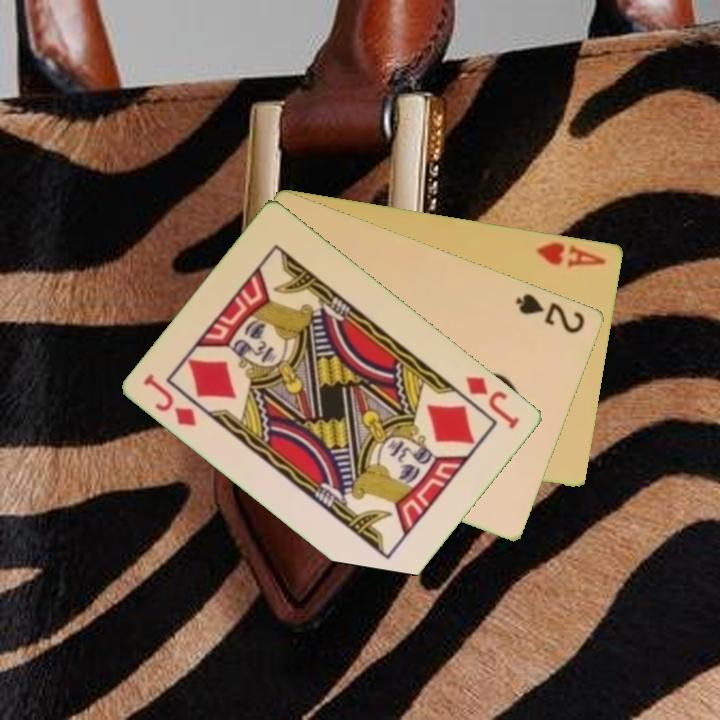2s: (512, 289, 588, 336)
Ah: (533, 238, 609, 271)
Jd: (462, 372, 523, 432), (140, 370, 201, 430)
